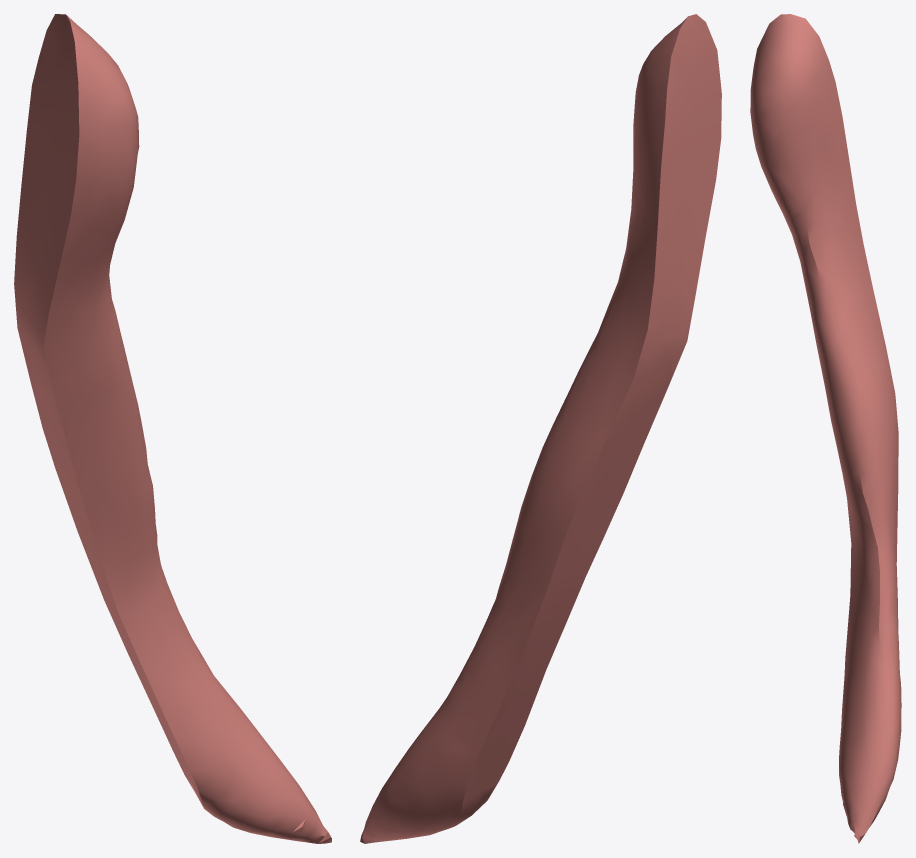
The model's file is fma301555_mm3996.glb.
3 renders of one model, left to right at view 1: azimuth 30°, elevation 25°; view 2: azimuth 150°, elevation 25°; view 3: azimuth 270°, elevation 25°, orthographic. The views are drawn at different scales.
Parts seen in each view (by area): view 1: FMA301555_MM3996; view 2: FMA301555_MM3996; view 3: FMA301555_MM3996.
Part boxes in pixels (left/top/right/bottom): FMA301555_MM3996: left=14, top=14, right=331, bottom=843; FMA301555_MM3996: left=360, top=14, right=721, bottom=843; FMA301555_MM3996: left=750, top=14, right=901, bottom=843.
Bounding box in the file's own units: 0.0355 × 0.0983 × 0.0188.
